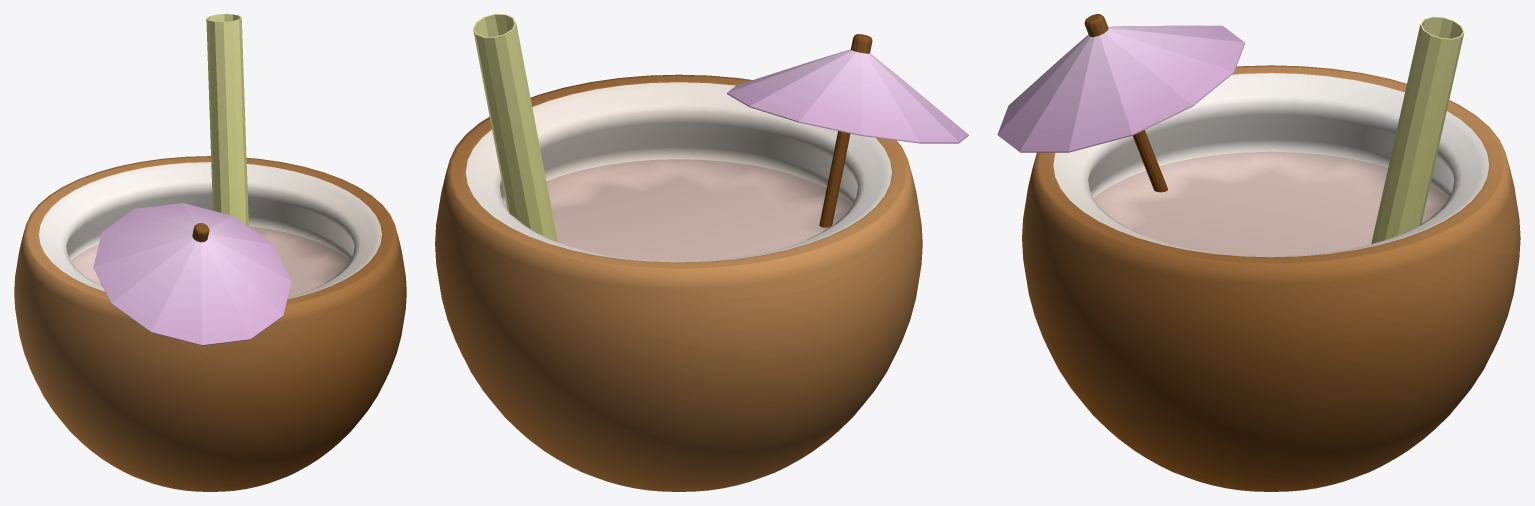
Rendered from coconut_cocktail.fbx.
3 renders of one model, left to right at view 1: azimuth 30°, elevation 25°; view 2: azimuth 150°, elevation 25°; view 3: azimuth 270°, elevation 25°, orthographic. The views are drawn at different scales.
Parts seen in each view (by area): view 1: Coconut, Umbrella, StraightStraw; view 2: Coconut, Umbrella, StraightStraw; view 3: Coconut, Umbrella, StraightStraw.
Part boxes in pixels (x1,y1,x2,y2): Coconut: [14, 156, 406, 491]; Umbrella: [93, 203, 291, 345]; StraightStraw: [206, 14, 248, 226]; Coconut: [435, 74, 922, 491]; Umbrella: [727, 34, 968, 227]; StraightStraw: [473, 14, 557, 242]; Coconut: [1022, 65, 1520, 491]; Umbrella: [997, 14, 1245, 192]; StraightStraw: [1371, 16, 1464, 243].
Bounding box in the file's own units: 186 × 200 × 195.
Materials: 1 (1 with a texture image).
